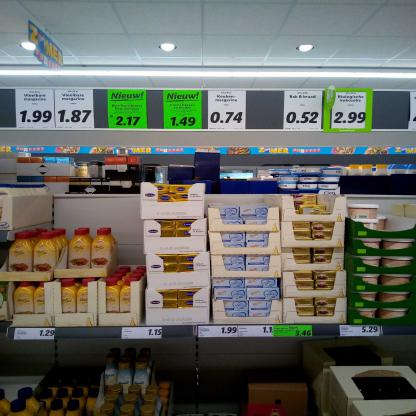prtg: (16, 90, 56, 129), (55, 90, 95, 129), (109, 91, 148, 130), (164, 91, 203, 130), (209, 91, 247, 130), (285, 92, 324, 130), (332, 93, 367, 130), (15, 329, 56, 341), (123, 328, 163, 340), (199, 327, 239, 338), (274, 327, 313, 338), (239, 327, 274, 338)
